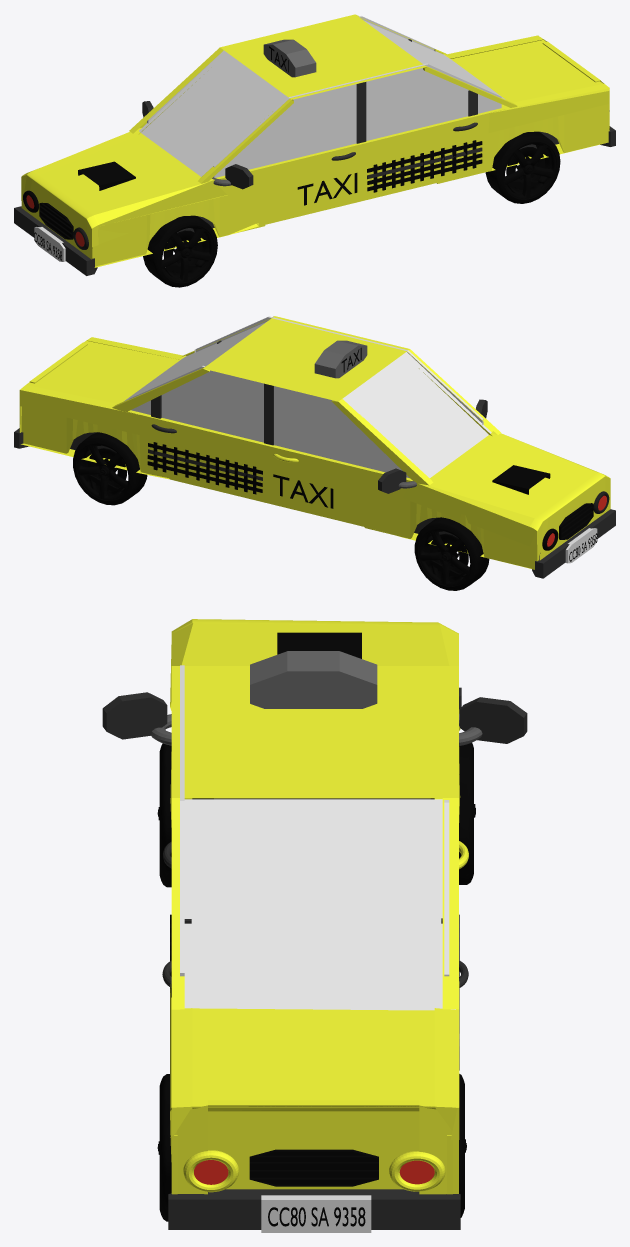
Rendered from taxi.fbx.
3 views of the same model, one above another, from view 1: azimuth 30°, elevation 25°; view 2: azimuth 150°, elevation 25°; view 3: azimuth 270°, elevation 25° (orthographic). The views are drawn at different scales.
Visible parts, largest first — view 1: Cube, Cube.006, Cube.019, Cube.038, FR, FR.001, Cube.041, Cube.052, Cube.043, Cube.012, Cube.030, Cube.005 (+9 smaller); view 2: Cube, Cube.014, Cube.019, FR.003, FR.002, Cube.029, Cube.031, Cube.052, Cube.043, Cube.012, Cube.006, Cube.030 (+10 smaller); view 3: Cube, Cube.052, Cube.013, Cube.043, Cube.008, Cube.022, Cube.003, Cube.004, FR.003, Cube.030, FR.001, FR (+6 smaller).
Part boxes in pixels (bbox=[...]): Cube: bbox=[21, 14, 609, 267]; Cube.006: bbox=[213, 63, 501, 177]; Cube.019: bbox=[139, 50, 287, 176]; Cube.038: bbox=[92, 195, 265, 266]; FR: bbox=[143, 215, 217, 287]; FR.001: bbox=[485, 131, 560, 203]; Cube.041: bbox=[436, 104, 609, 183]; Cube.052: bbox=[363, 20, 505, 99]; Cube.043: bbox=[263, 39, 316, 77]; Cube.012: bbox=[14, 206, 97, 275]; Cube.030: bbox=[78, 161, 135, 190]; Cube.005: bbox=[39, 202, 73, 239]; Cube: bbox=[19, 316, 610, 569]; Cube.014: bbox=[128, 365, 409, 478]; Cube.019: bbox=[342, 352, 491, 477]; FR.003: bbox=[414, 517, 489, 590]; FR.002: bbox=[73, 432, 147, 505]; Cube.029: bbox=[364, 497, 537, 569]; Cube.031: bbox=[21, 406, 168, 477]; Cube.052: bbox=[124, 322, 265, 401]; Cube.043: bbox=[314, 340, 367, 378]; Cube.012: bbox=[532, 509, 615, 578]; Cube.006: bbox=[194, 316, 483, 424]; Cube.030: bbox=[492, 465, 550, 494]; Cube: bbox=[170, 619, 459, 1194]; Cube.052: bbox=[184, 799, 455, 1010]; Cube.013: bbox=[168, 1189, 460, 1229]; Cube.043: bbox=[250, 651, 377, 708]; Cube.008: bbox=[249, 1149, 378, 1186]; Cube.022: bbox=[261, 1195, 371, 1232]; Cube.003: bbox=[102, 692, 167, 739]; Cube.004: bbox=[460, 697, 527, 743]; FR.003: bbox=[430, 742, 475, 884]; Cube.030: bbox=[277, 632, 361, 658]; FR.001: bbox=[157, 1074, 171, 1221]; FR: bbox=[157, 743, 213, 887].
Size of the model in its own units: 1906 by 609 by 657.
